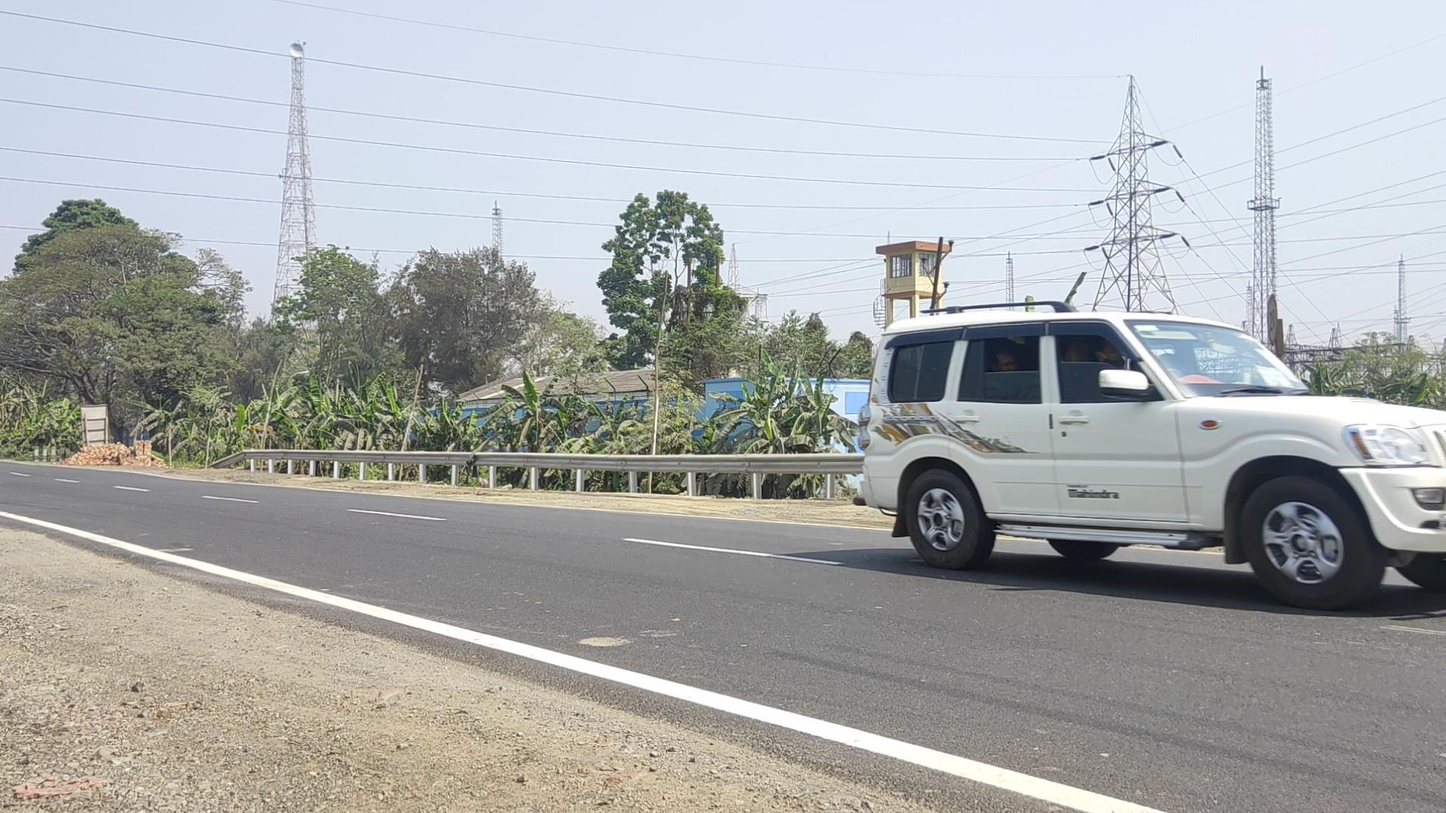car: (854, 300, 1446, 611)
